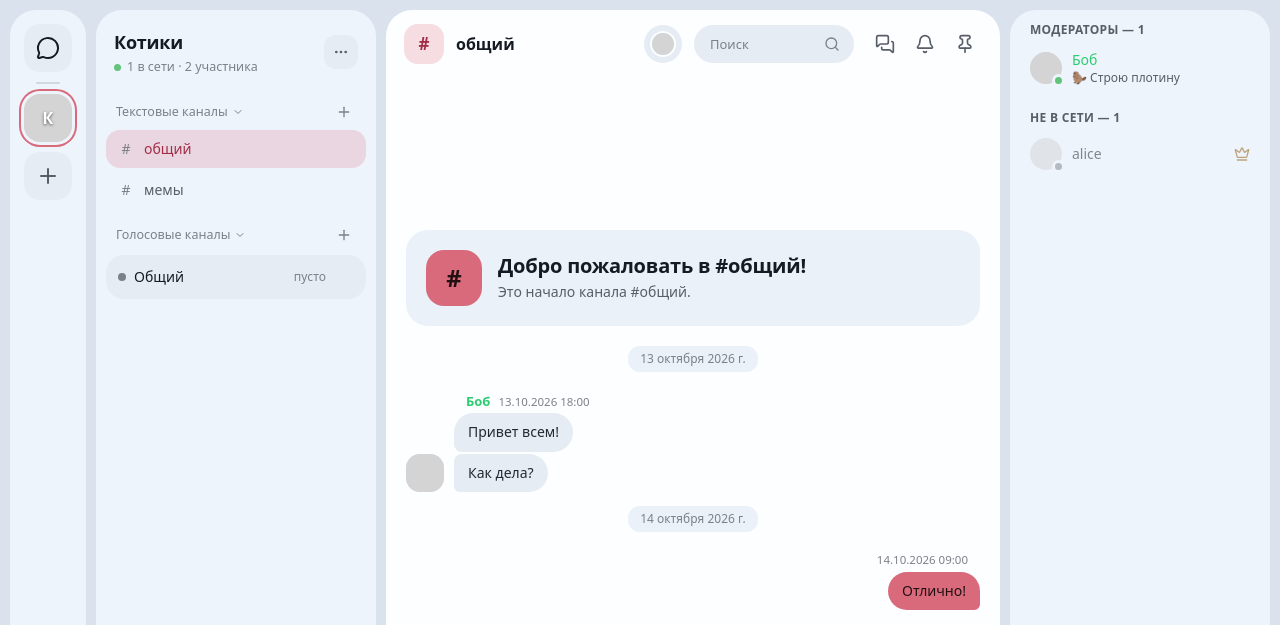
it: custom status › shows other people’s status in the member list and on their card
expect the text "🦫 Строю плотину" is shown: met, box [1072,69,1180,86]
Click the button with aria-label "Боб,". click: click(1140, 68)
box: [1022,44,1258,92]
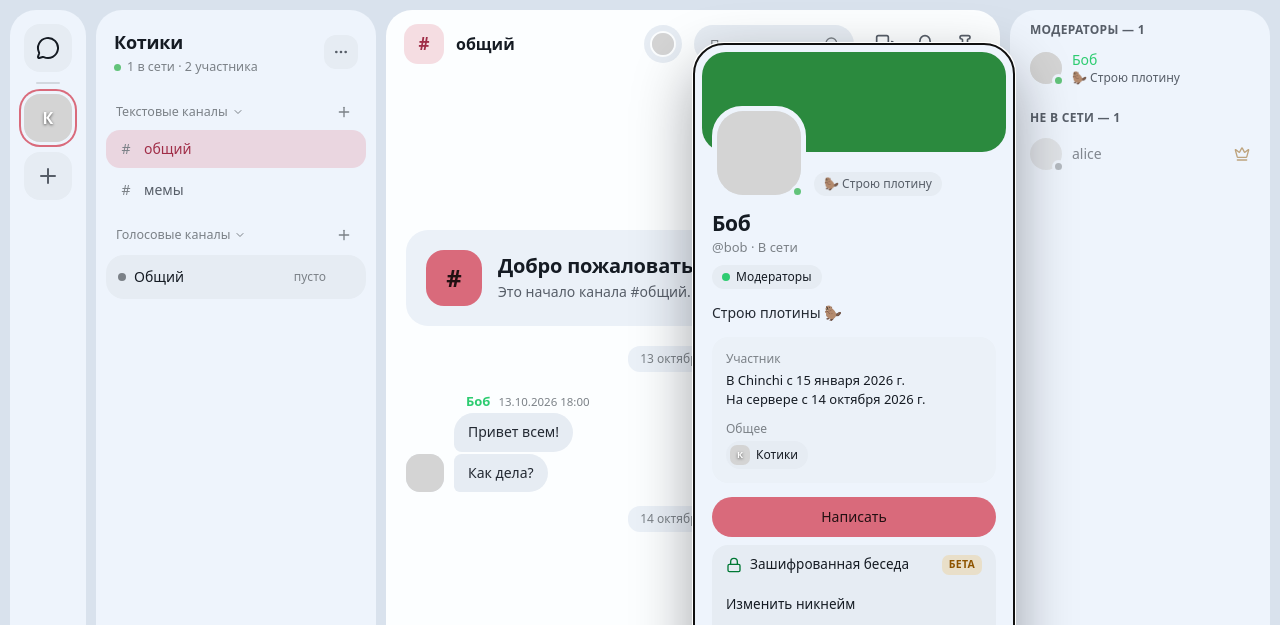
expect the 2nd text "🦫 Строю плотину" is shown: met, box [814,172,942,196]
